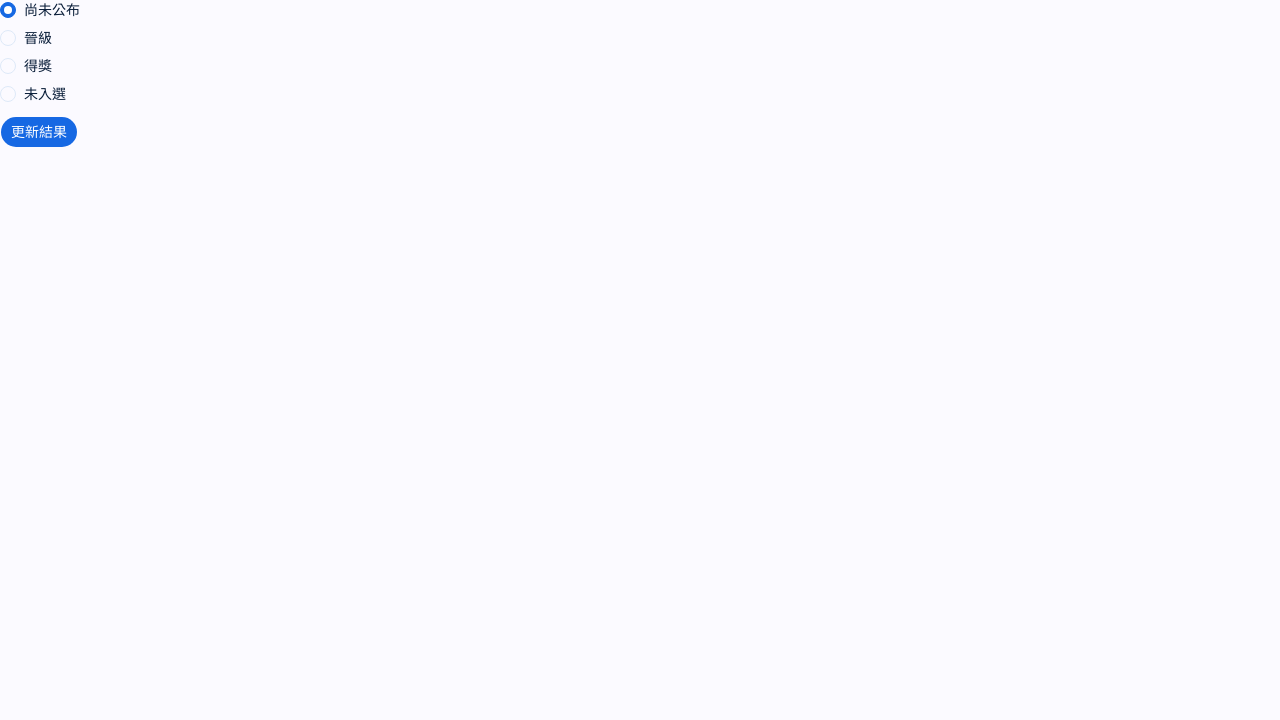
Test case: ResultSelect：比賽結果選單與確認對話框 › 選未入選後按儲存：彈出同一個確認對話框
Click the radio button "未入選": (33, 94) [0,86,66,102]
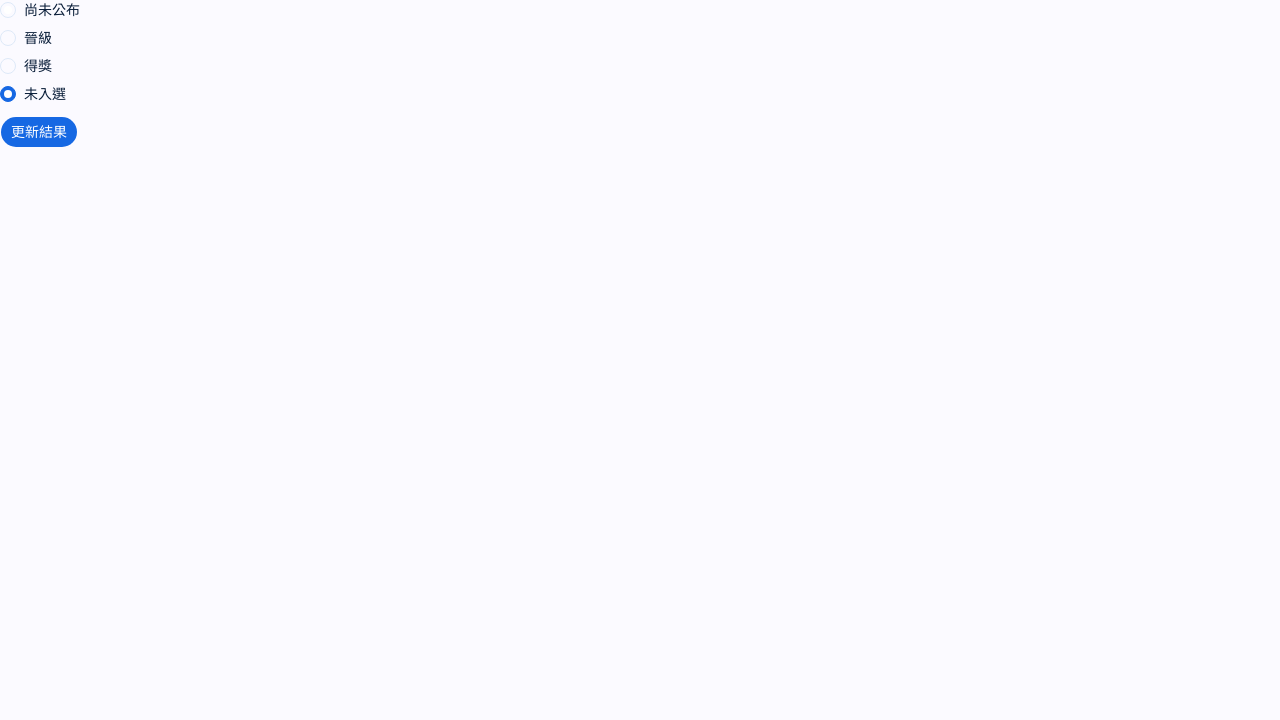
Click the button "更新結果": (39, 132) [0,116,78,148]
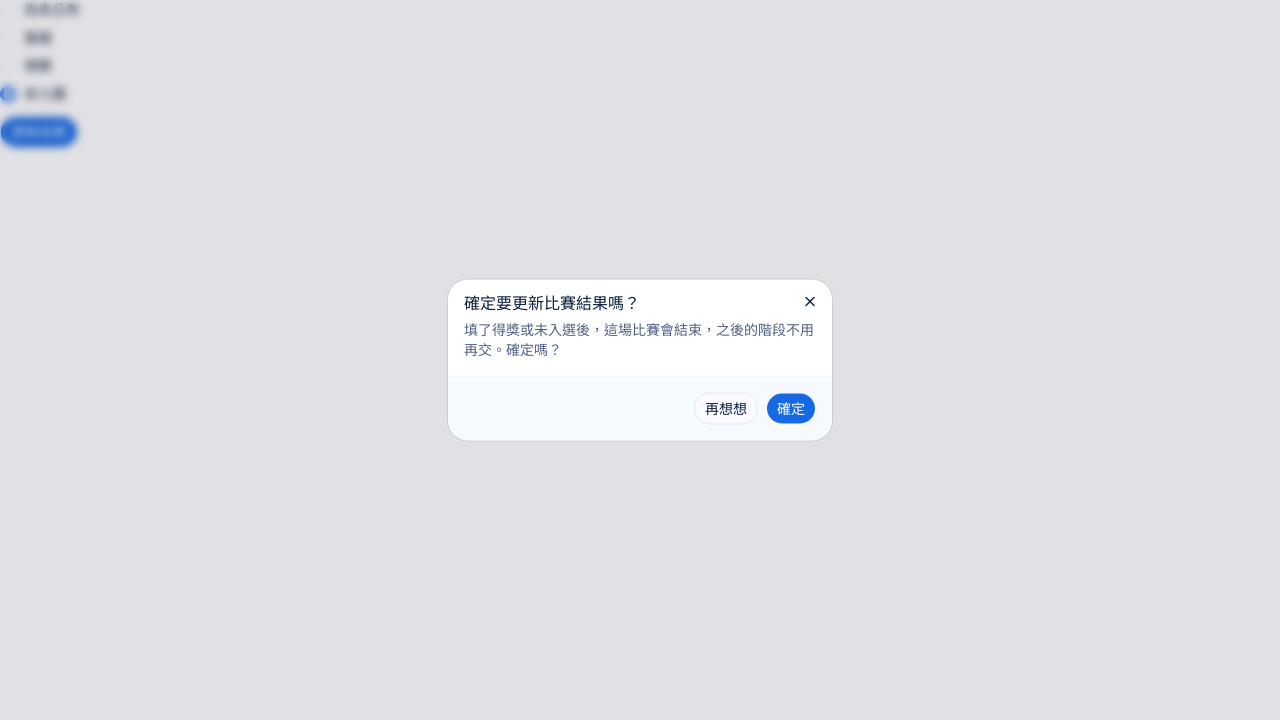
Expected: the text "填了得獎或未入選後，這場比賽會結束，之後的階段不用再交。確定嗎？" is shown, [464,320,816,360]
